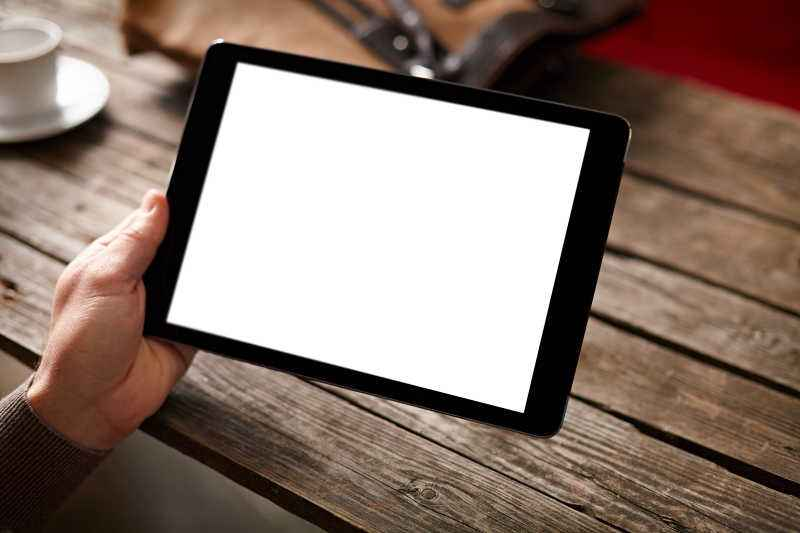pad: (52, 36, 632, 449)
